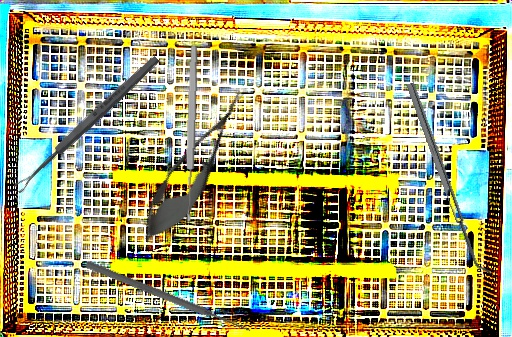Micro Scissor: (128, 79, 261, 254)
Pusher: (84, 259, 253, 336)
Spatula Surgical: (406, 79, 492, 279)
Surgical Spoon: (11, 53, 162, 195), (182, 44, 200, 224)
